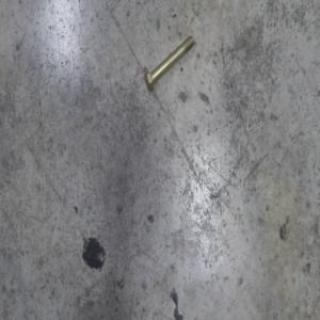Bolttrack_idkeyframe: (142, 34, 196, 92)
